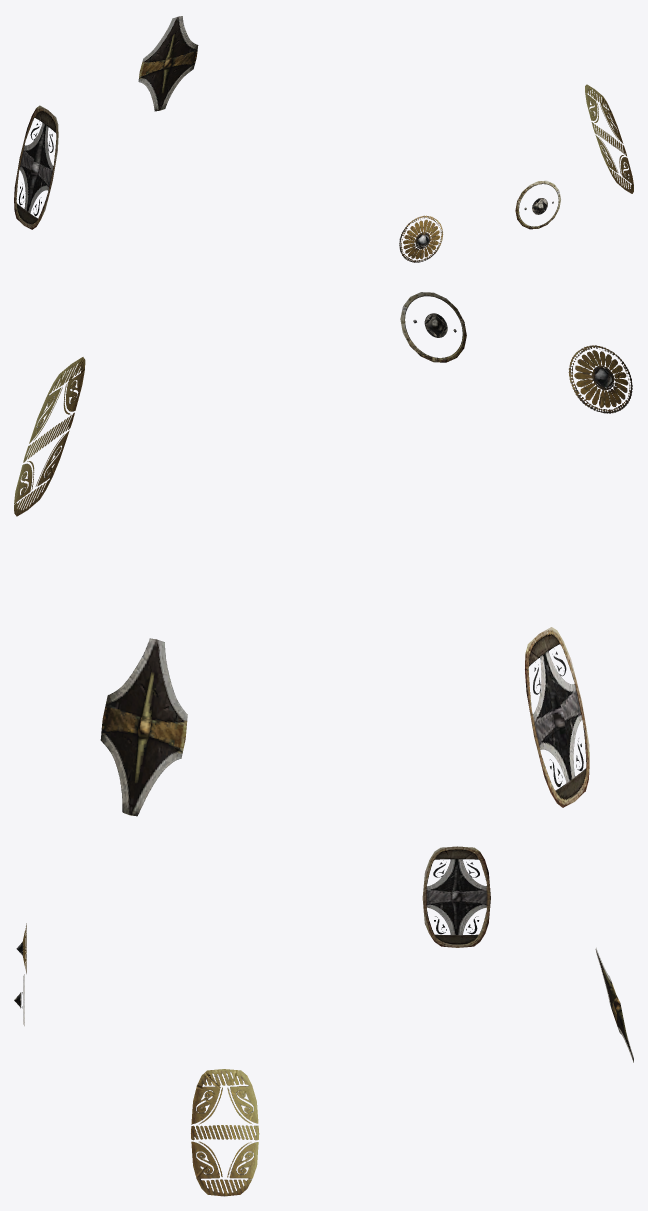
File: kart_embassy_iber_props.dae
The picture shows the model from 3 angles, top to bottom: view 1: azimuth 30°, elevation 25°; view 2: azimuth 150°, elevation 25°; view 3: azimuth 270°, elevation 25°; orthographic projection. The views are drawn at different scales.
Parts seen in each view (by area): view 1: towershield009; view 2: towershield009; view 3: towershield009.
Part boxes in pixels (x1,y1,x2,y2): towershield009: (14,16,633,262); towershield009: (14,292,632,816); towershield009: (14,846,633,1196).
Bounding box in the file's own units: 12.14 × 2.94 × 12.85.
